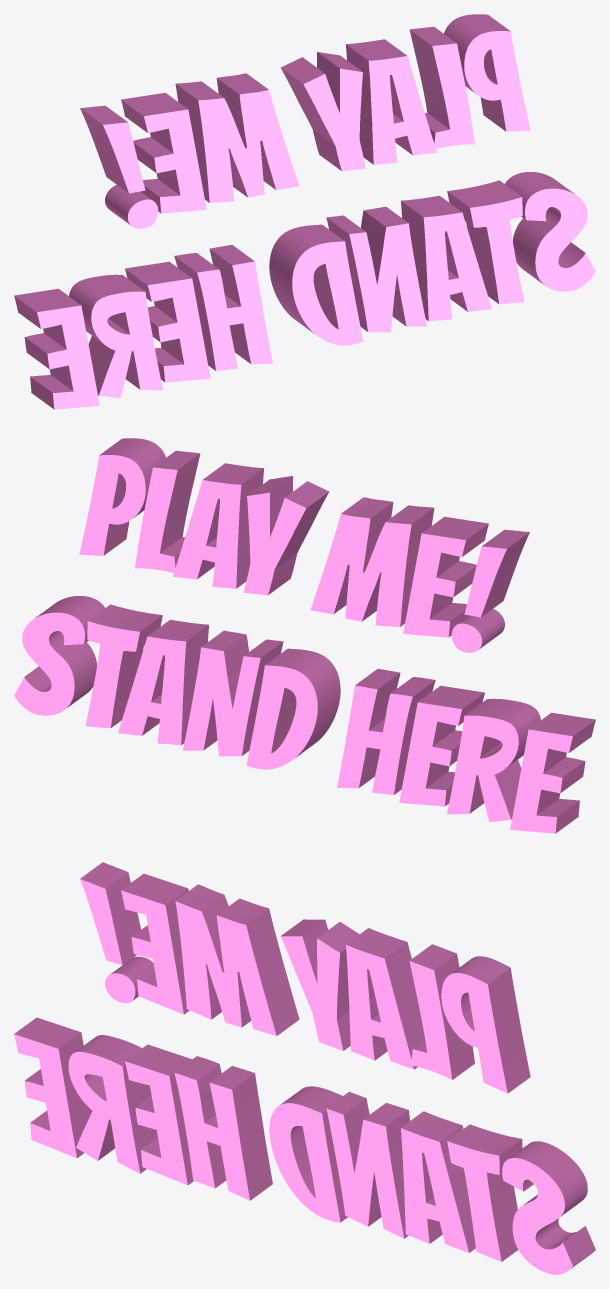
Rendered from text-play.glb.
3 renders of one model, top to bottom at view 1: azimuth 30°, elevation 25°; view 2: azimuth 150°, elevation 25°; view 3: azimuth 330°, elevation 25°, orthographic.
Visible parts, largest first — view 1: Face, Side; view 2: Face, Side; view 3: Face, Side.
Part boxes in pixels (<box>): Face: <box>37,31,595,409</box>; Side: <box>14,14,585,409</box>; Face: <box>14,455,572,833</box>; Side: <box>24,438,595,833</box>; Face: <box>14,879,572,1274</box>; Side: <box>14,862,595,1268</box>.
Size of the model in its own units: 3.96 by 1.91 by 0.28.
